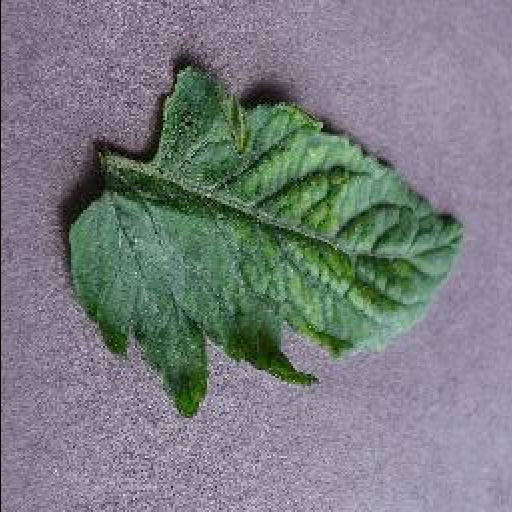disease_tomato: (62, 61, 472, 427)
